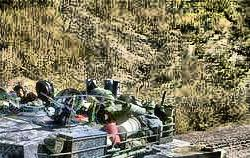tanks: (1, 81, 226, 158)
